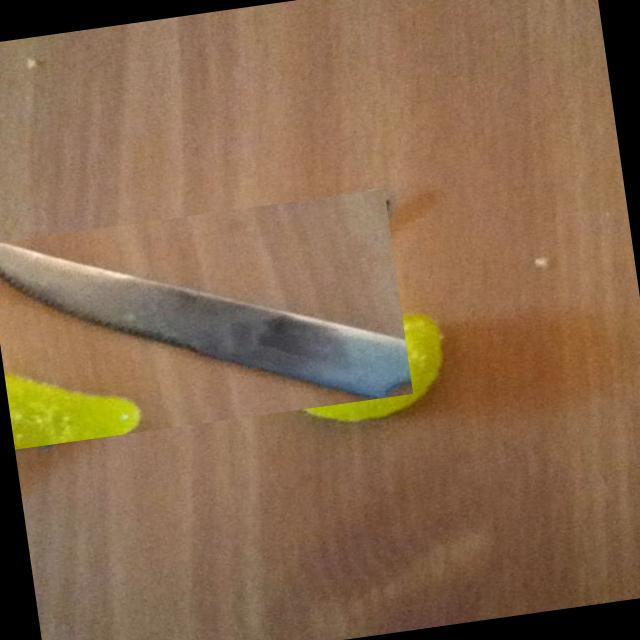Knife: (0, 242, 412, 398)
